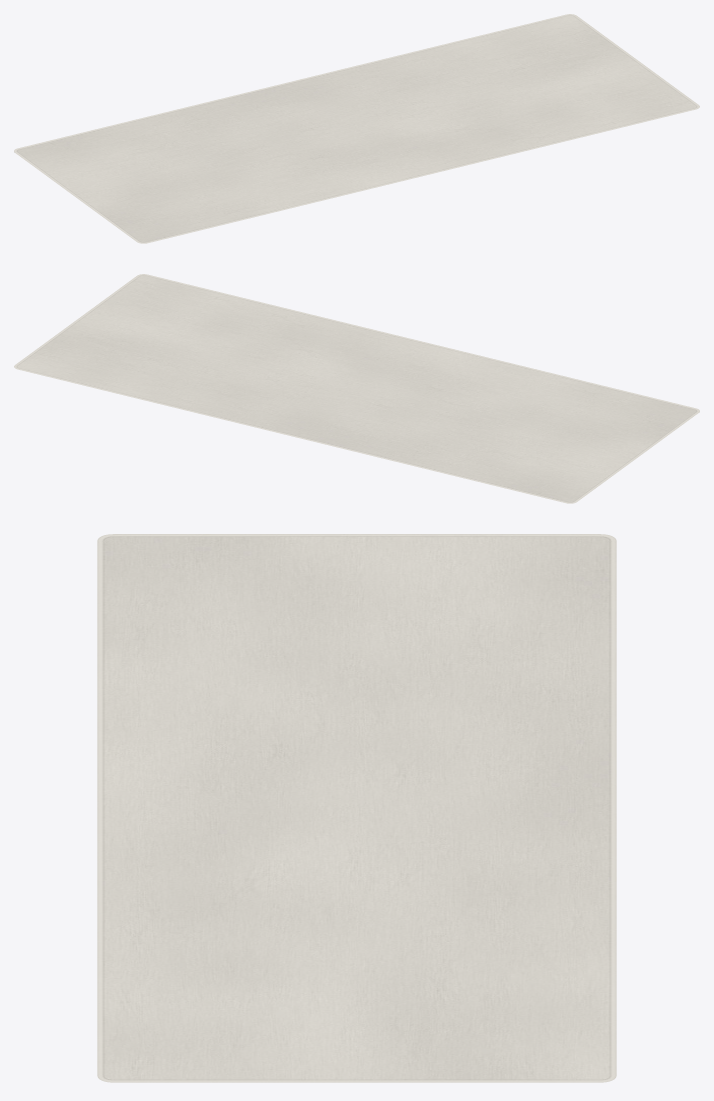
Rendered from ivory_hall_r90.glb.
3 renders of one model, top to bottom at view 1: azimuth 30°, elevation 25°; view 2: azimuth 150°, elevation 25°; view 3: azimuth 270°, elevation 25°, orthographic. The views are drawn at different scales.
Parts seen in each view (by area): view 1: reliv_ivory_hall_r90; view 2: reliv_ivory_hall_r90; view 3: reliv_ivory_hall_r90.
Part boxes in pixels (x1=…): reliv_ivory_hall_r90: x1=14, y1=14, x2=699, y2=243; reliv_ivory_hall_r90: x1=14, y1=274, x2=699, y2=503; reliv_ivory_hall_r90: x1=97, y1=534, x2=616, y2=1082.
Bounding box in the file's own units: 2.5 × 0.009 × 1.
2 materials, 1 textured.
